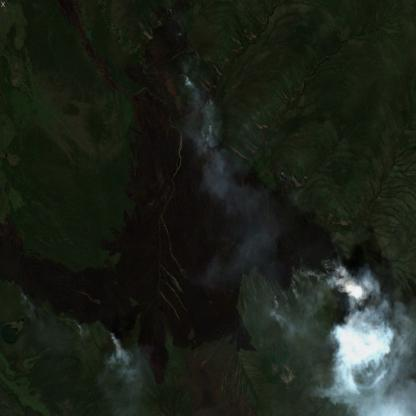fire: (292, 241, 364, 317), (175, 61, 212, 142)
